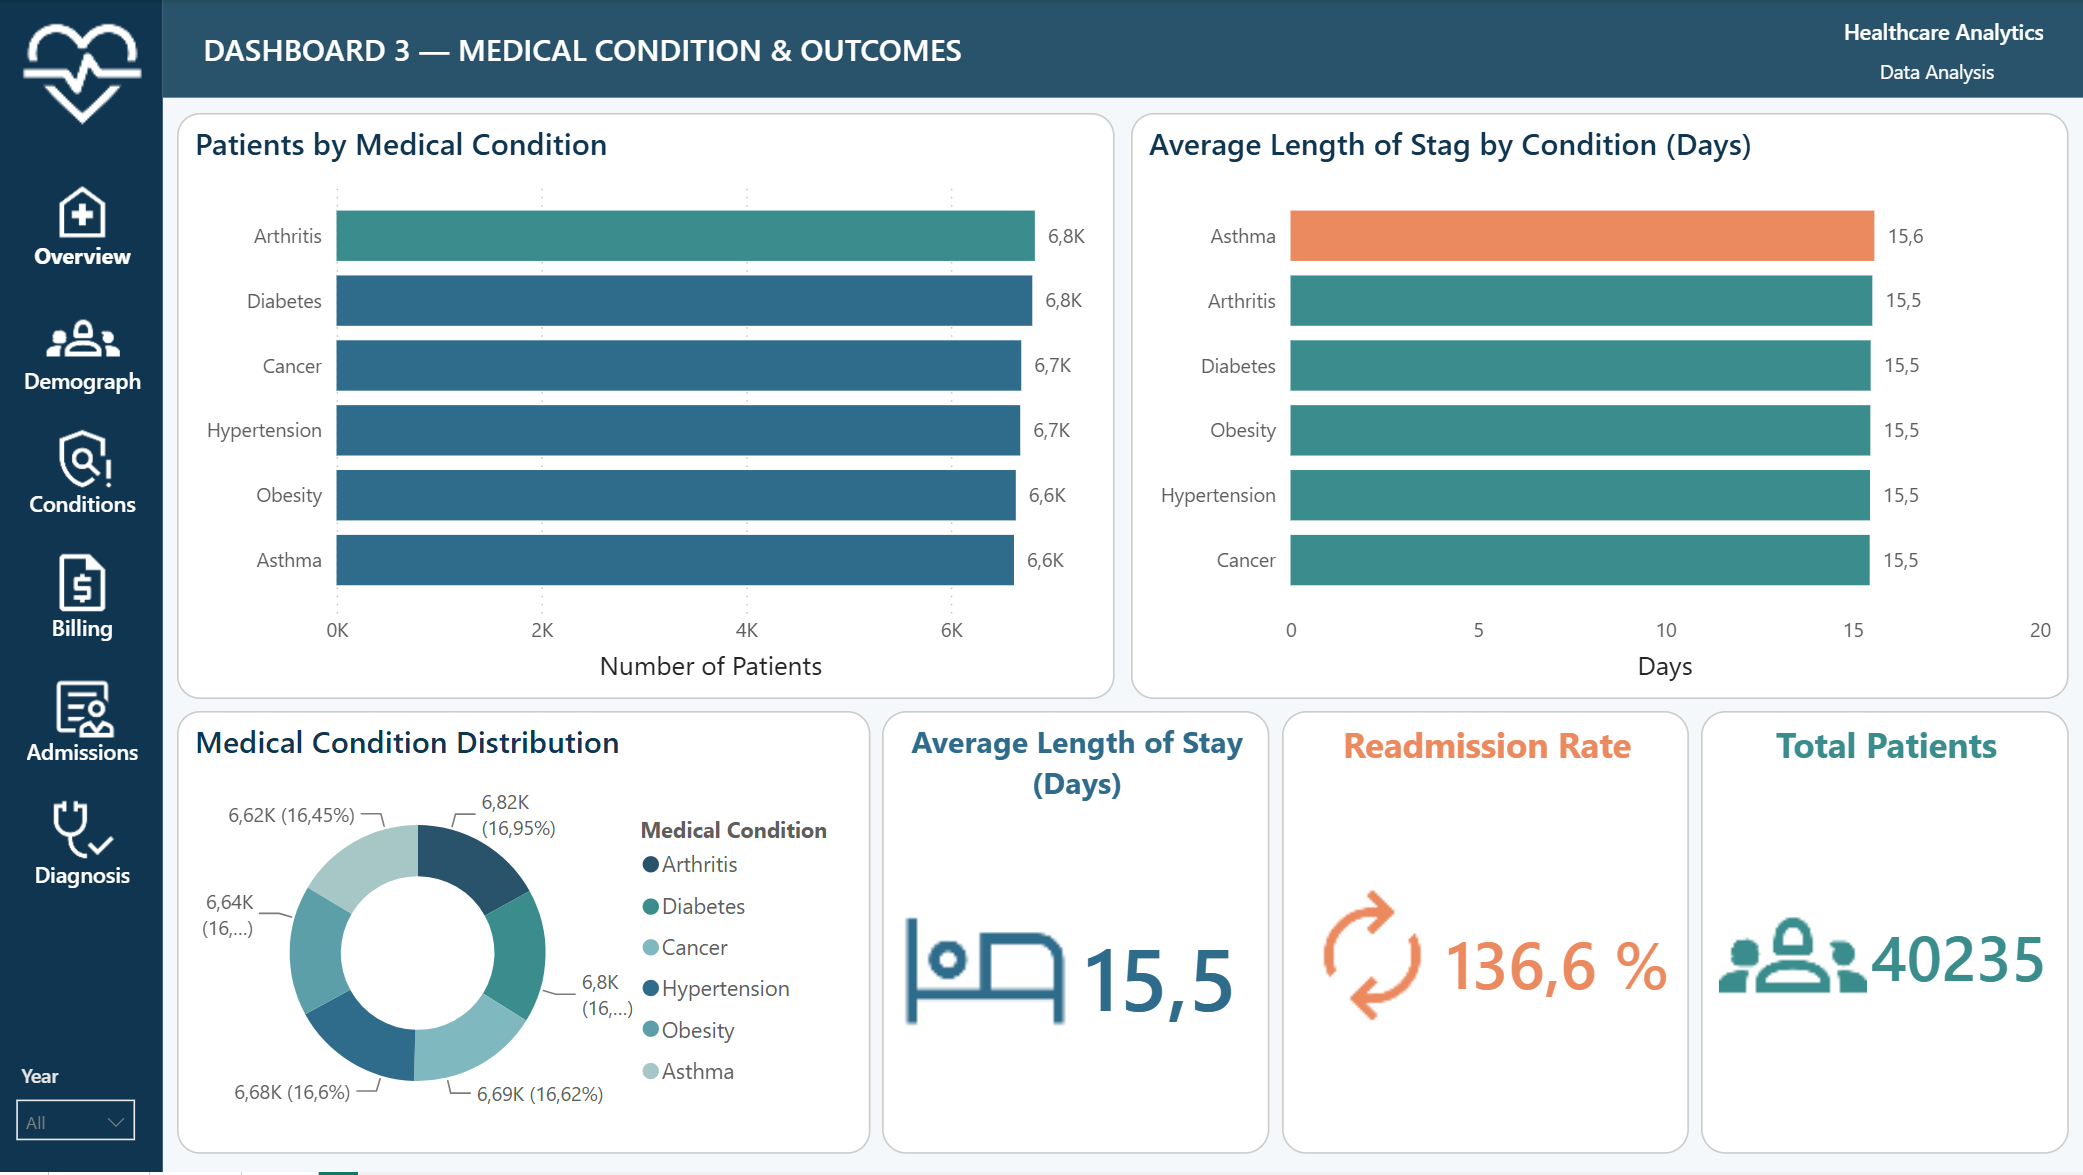

What the dashboard file says about the page in this screenshot:
{"tool":"powerbi","page":{"name":"Conditions","canvas":[1280,720],"ordinal":2},"visuals":[{"type":"group","id":"g1","title":"Navigation Bar","box":[0,0,100,720],"z":0},{"type":"shape","title":"Sidebar","box":[0,0,100,720],"z":1000,"group":"g1"},{"type":"shape","box":[99.9,0,1180.1,60.2],"z":1000},{"type":"actionButton","title":"NAV - Overview","box":[8.6,105,84,64],"z":1500,"group":"g1"},{"type":"textbox","title":"Left header title","box":[120,12,500.7,35],"z":2000},{"type":"actionButton","title":"NAV - Demographics","box":[8.6,181,84,64.5],"z":2000,"group":"g1"},{"type":"textbox","box":[1070.2,5.5,190.4,29.5],"z":3000},{"type":"actionButton","title":"NAV - Conditions","box":[8.6,257,84,64.5],"z":3000,"group":"g1"},{"type":"textbox","box":[1113.2,29.5,153.6,30.1],"z":4000},{"type":"actionButton","title":"NAV - Billing","box":[8.6,333,84,64.5],"z":4000,"group":"g1"},{"type":"image","box":[0.6,0,99.6,89.7],"z":5000},{"type":"actionButton","title":"NAV - Admissions","box":[8.6,409,84,64.5],"z":5000,"group":"g1"},{"type":"clusteredBarChart","title":"Patients by Medical Condition","fields":{"Category":["Healthcare Dataset.Medical Condition"],"Y":["CountNonNull(Healthcare Dataset.Medical Condition)"]},"box":[108.7,69.4,576,360],"z":6000},{"type":"actionButton","title":"NAV - Diagnosis","box":[8.6,485,84,64.5],"z":6000,"group":"g1"},{"type":"clusteredBarChart","title":"Average Length of Stag by Condition (Days)","fields":{"Category":["Healthcare Dataset.Medical Condition"],"Y":["Healthcare Dataset.Average Stay"]},"box":[694.8,69.4,576.2,360],"z":7000},{"type":"cardVisual","title":"Total Patients","fields":{"Data":["Healthcare Dataset.Total Patients"]},"box":[1049.3,436.8,221.8,272.2],"z":8000},{"type":"cardVisual","title":"Average Length of Stay (Days)","fields":{"Data":["Healthcare Dataset.Average Stay"]},"box":[549.8,436.8,237.7,272.2],"z":9000},{"type":"donutChart","title":"Medical Condition Distribution","fields":{"Category":["Healthcare Dataset.Medical Condition"],"Y":["CountNonNull(Healthcare Dataset.Medical Condition)"]},"box":[108.7,436.8,433.1,272.2],"z":10000},{"type":"cardVisual","title":"Readmission Rate","fields":{"Data":["Healthcare Dataset.Readmission Rate"]},"box":[799.2,436.8,237.7,272.2],"z":11000},{"type":"slicer","fields":{"Values":["Healthcare Dataset.Date of Admission.Variation.Date Hierarchy.Year"]},"box":[0,647.6,92.8,55.1],"z":12000}]}

Visuals, with their boxes in screenshot pixels (x1, y1, x2, y2), scaled from the page's 1280x720 canvas onto the 2083x1175 screenshot:
"Navigation Bar" group: x1=0, y1=0, x2=163, y2=1174
"Sidebar" shape: x1=0, y1=0, x2=163, y2=1174
shape: x1=163, y1=0, x2=2082, y2=98
"NAV - Overview" actionButton: x1=14, y1=171, x2=151, y2=276
"Left header title" textbox: x1=195, y1=20, x2=1010, y2=77
"NAV - Demographics" actionButton: x1=14, y1=295, x2=151, y2=401
textbox: x1=1742, y1=9, x2=2051, y2=57
"NAV - Conditions" actionButton: x1=14, y1=419, x2=151, y2=525
textbox: x1=1812, y1=48, x2=2062, y2=97
"NAV - Billing" actionButton: x1=14, y1=543, x2=151, y2=649
image: x1=1, y1=0, x2=163, y2=146
"NAV - Admissions" actionButton: x1=14, y1=667, x2=151, y2=773
"Patients by Medical Condition" clusteredBarChart: x1=177, y1=113, x2=1114, y2=701
"NAV - Diagnosis" actionButton: x1=14, y1=791, x2=151, y2=897
"Average Length of Stag by Condition (Days)" clusteredBarChart: x1=1131, y1=113, x2=2068, y2=701
"Total Patients" cardVisual: x1=1708, y1=713, x2=2069, y2=1157
"Average Length of Stay (Days)" cardVisual: x1=895, y1=713, x2=1282, y2=1157
"Medical Condition Distribution" donutChart: x1=177, y1=713, x2=882, y2=1157
"Readmission Rate" cardVisual: x1=1301, y1=713, x2=1687, y2=1157
slicer - Healthcare Dataset.Date of Admission.Variation.Date Hierarchy.Year: x1=0, y1=1057, x2=151, y2=1147
